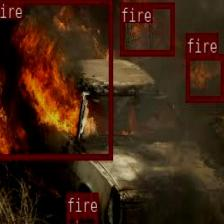fire: (0, 0, 112, 158), (119, 2, 174, 54), (186, 53, 224, 100), (66, 213, 97, 224)
